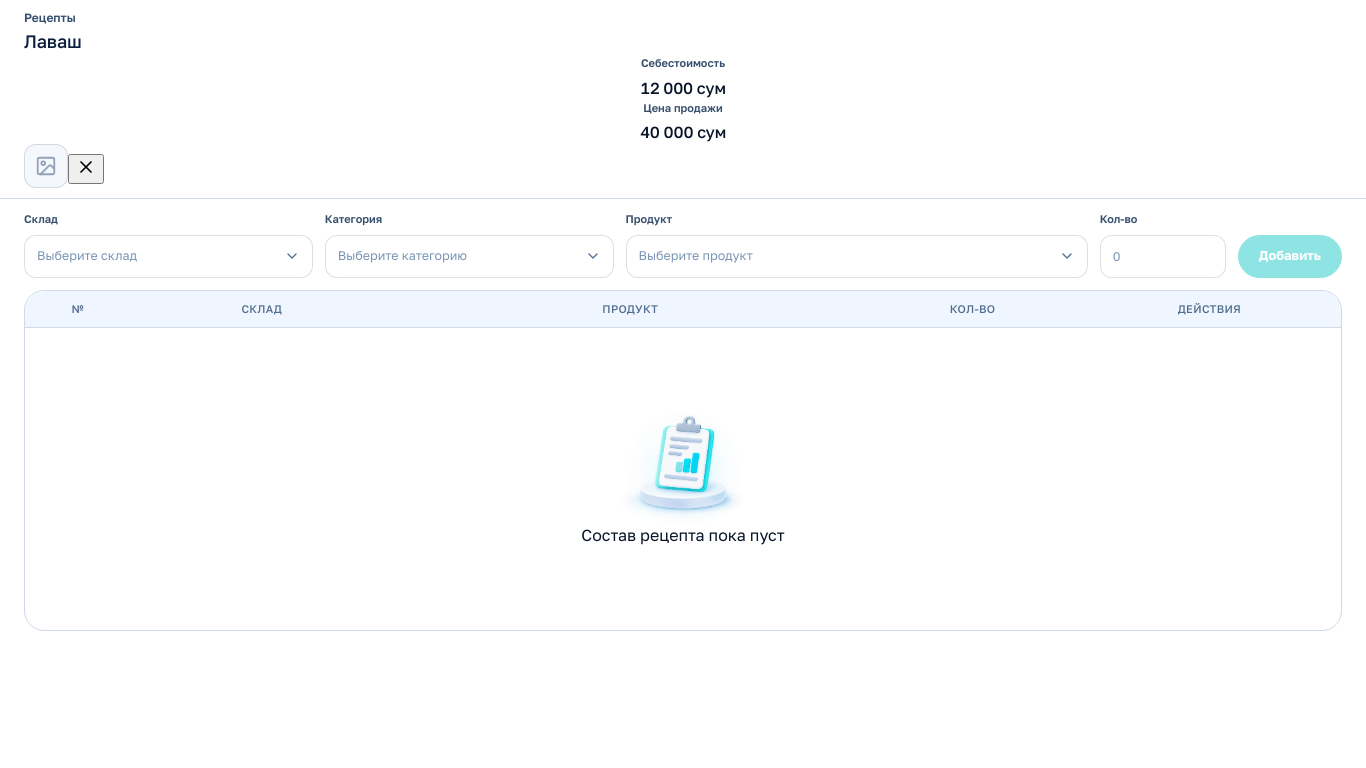
Test: Dishes recipes composition › parent category includes subcategory products
Expected: the text "Состав рецепта пока пуст" is shown, [581,525,785,547]
Click the dropdown named "Категория" at (469, 256), box [325,234,614,278]
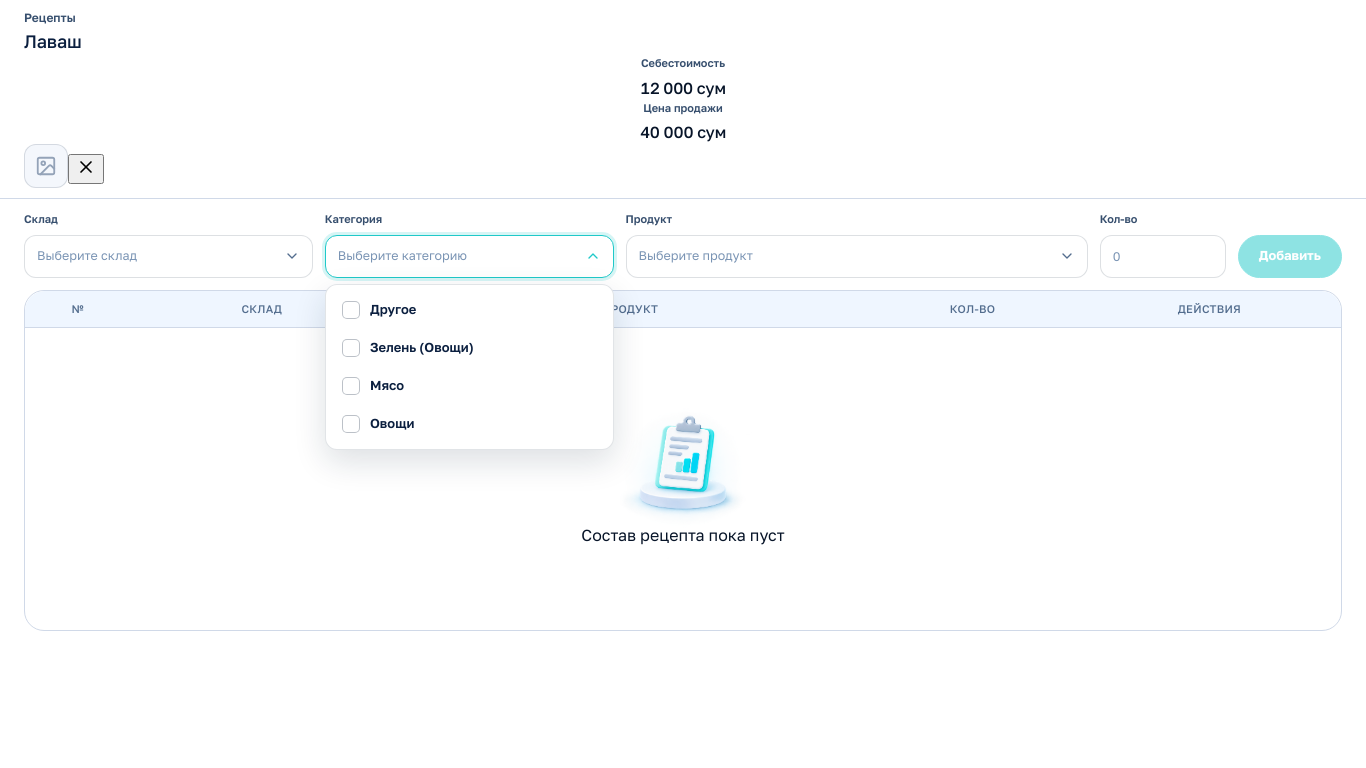
Expected: the option "Зелень (Овощи)" is shown, [332,328,607,366]
Click the option "Овощи" at (392, 423), box [332,404,607,442]
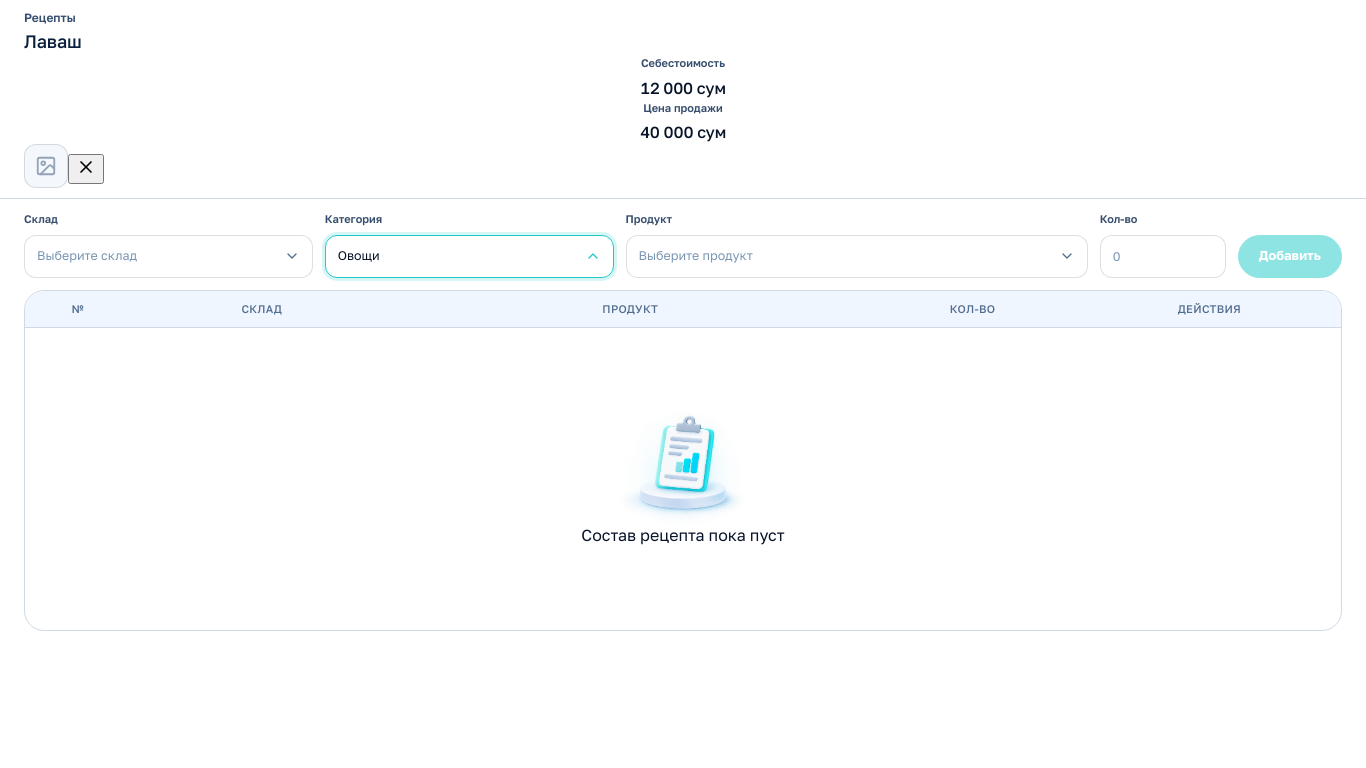
Click the dropdown labelled "продукт" at (696, 255), box [626,234,1088,278]
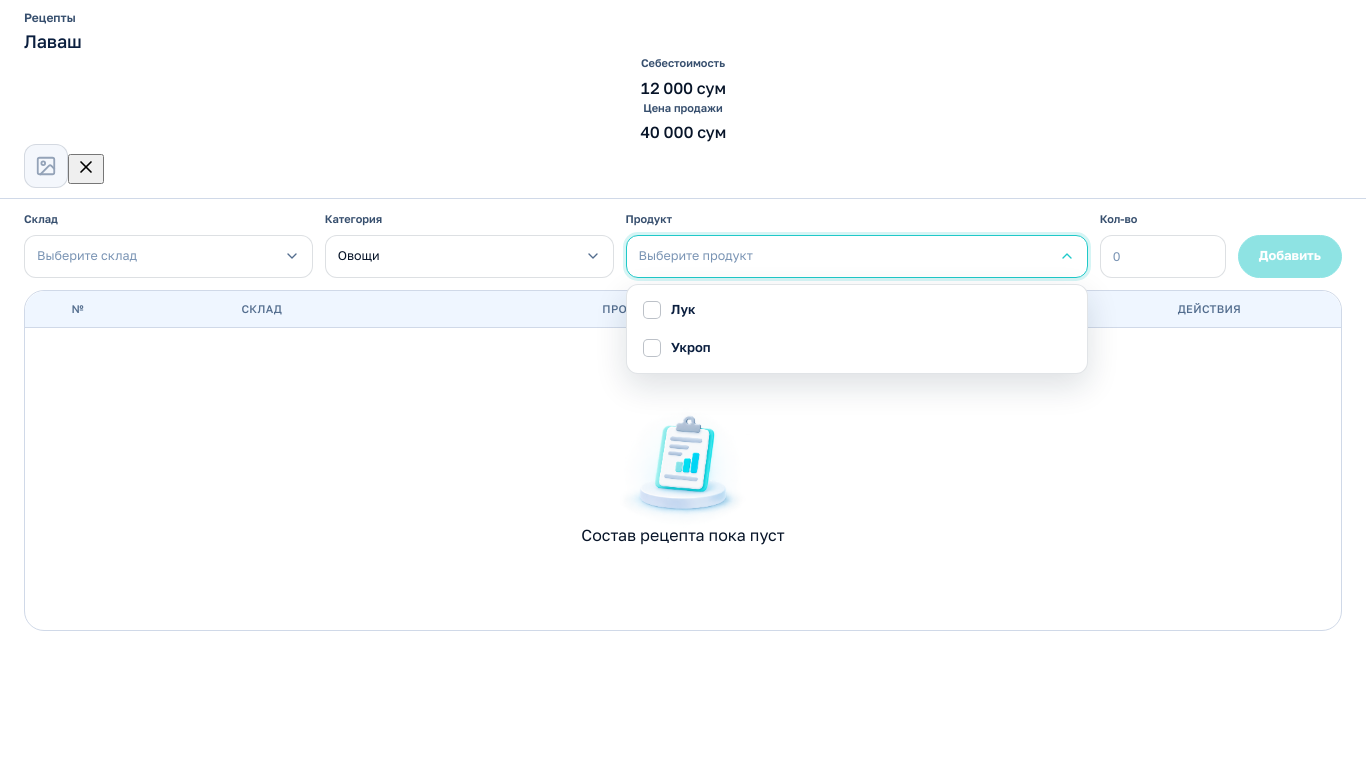
Expected: the option "Мясо" is not shown
Expected: the option "Лук" is shown, [633,290,1081,328]
Expected: the option "Укроп" is shown, [633,328,1081,366]
